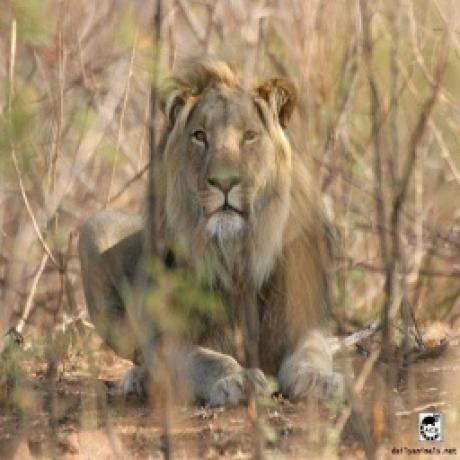Lion: (76, 56, 346, 400)
